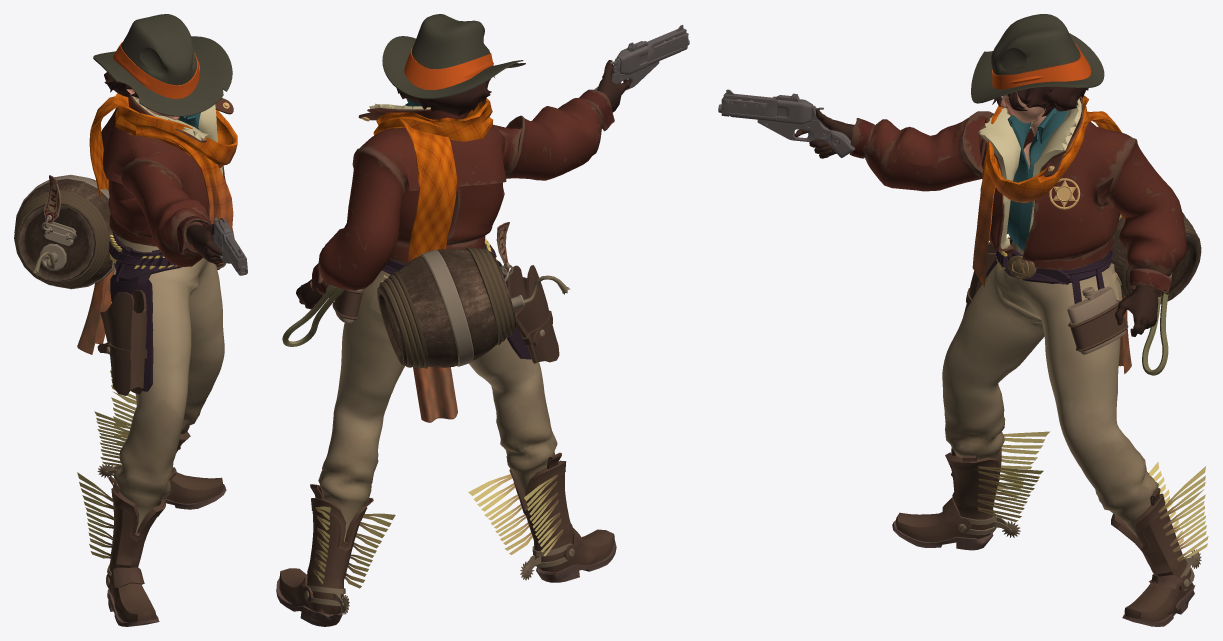
The picture shows the model from 3 angles, left to right: view 1: azimuth 30°, elevation 25°; view 2: azimuth 150°, elevation 25°; view 3: azimuth 270°, elevation 25°; orthographic projection. The views are drawn at different scales.
Parts seen in each view (by area): view 1: models\heroes_staging\astro\astro.vmdl_c.body, models\heroes_staging\astro\astro.vmdl_c.gun; view 2: models\heroes_staging\astro\astro.vmdl_c.body, models\heroes_staging\astro\astro.vmdl_c.gun; view 3: models\heroes_staging\astro\astro.vmdl_c.body, models\heroes_staging\astro\astro.vmdl_c.gun.
Boxes of the visible parts, x1,y1,x2,y2 form: models\heroes_staging\astro\astro.vmdl_c.body: (14,14,237,626); models\heroes_staging\astro\astro.vmdl_c.gun: (213,217,247,275); models\heroes_staging\astro\astro.vmdl_c.body: (276,14,630,626); models\heroes_staging\astro\astro.vmdl_c.gun: (594,25,689,90); models\heroes_staging\astro\astro.vmdl_c.body: (794,14,1208,626); models\heroes_staging\astro\astro.vmdl_c.gun: (718,89,855,157).
Bounding box in the file's own units: 1.01 × 2.24 × 1.79.
3 materials, 2 textured.
